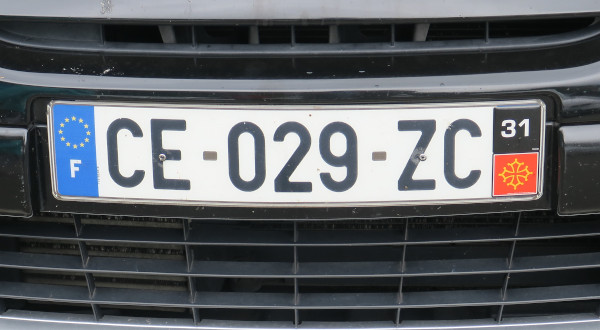license_plate: (49, 102, 545, 202)
